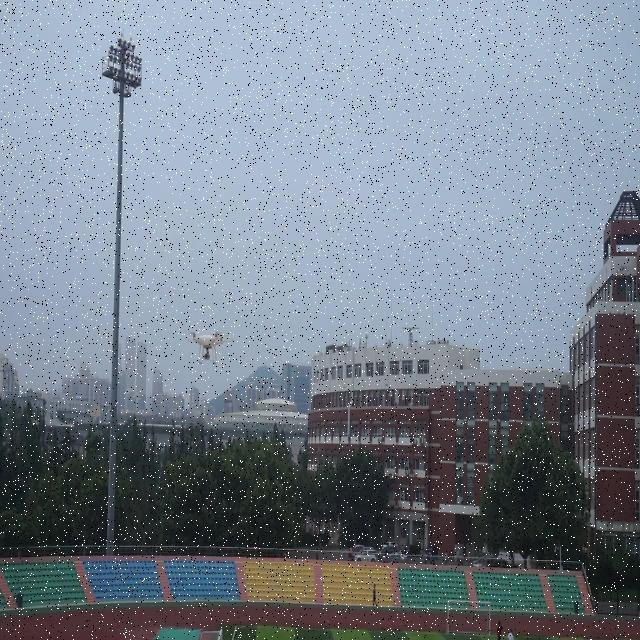UAV: (187, 330, 233, 365)
